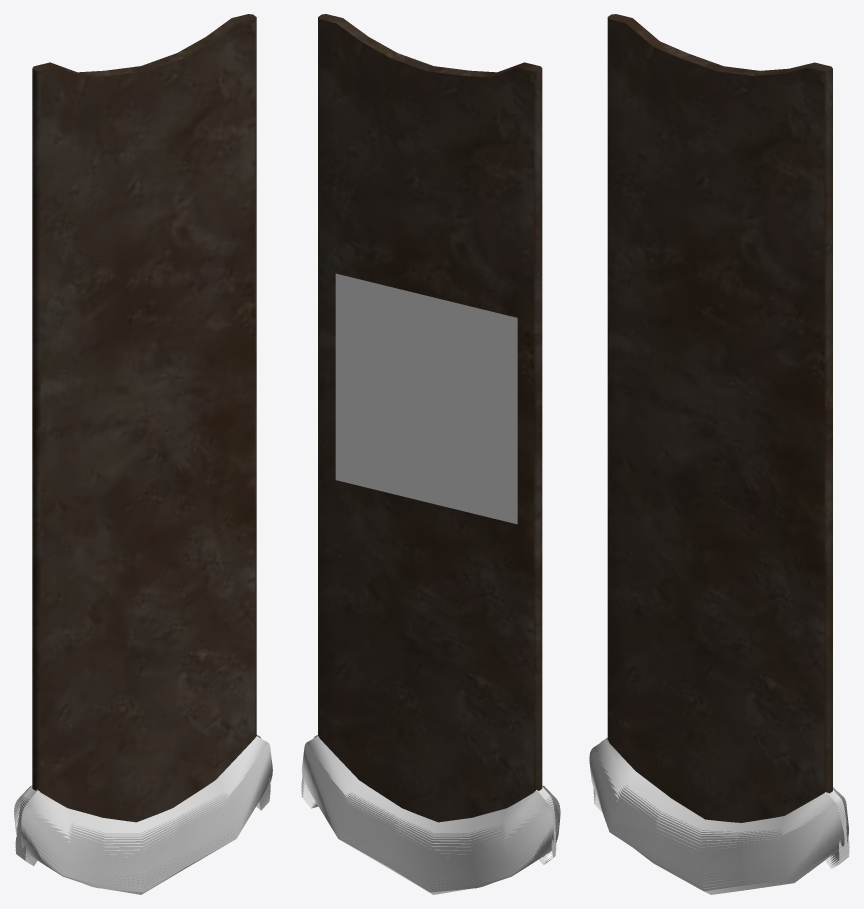
The picture shows the model from 3 angles, left to right: view 1: azimuth 30°, elevation 25°; view 2: azimuth 150°, elevation 25°; view 3: azimuth 330°, elevation 25°; orthographic projection.
Parts seen in each view (by area): view 1: SM_Dec_Garou_Set_SM_Banner_02_LOD0; view 2: SM_Dec_Garou_Set_SM_Banner_02_LOD0; view 3: SM_Dec_Garou_Set_SM_Banner_02_LOD0.
Part boxes in pixels (<box>): SM_Dec_Garou_Set_SM_Banner_02_LOD0: <box>14,14,272,894</box>; SM_Dec_Garou_Set_SM_Banner_02_LOD0: <box>301,14,560,894</box>; SM_Dec_Garou_Set_SM_Banner_02_LOD0: <box>589,14,849,894</box>.
Size of the model in its own units: 0.7228 by 2.32 by 0.1524.
4 materials, 2 textured.
